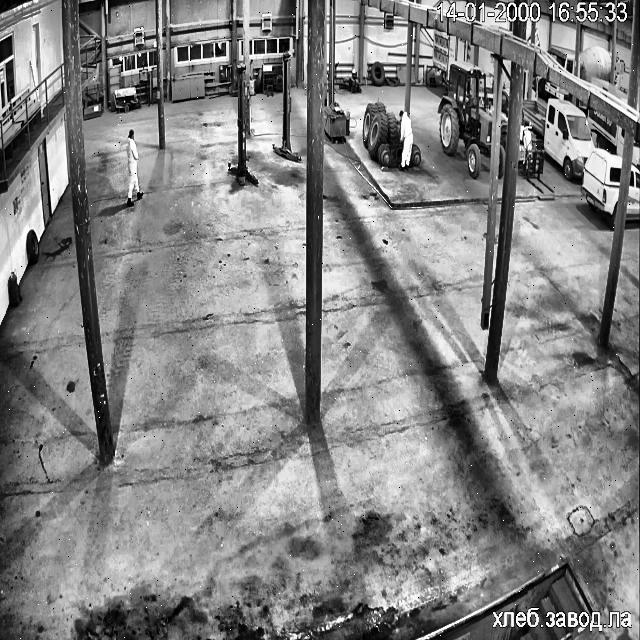car lift: (228, 64, 257, 185), (272, 52, 300, 161)
fire extinguisher: (8, 272, 21, 306)
mechanic: (128, 130, 143, 205), (400, 110, 412, 170)
tractor: (438, 61, 492, 178), (362, 102, 402, 166), (409, 143, 420, 164), (498, 143, 504, 177)
truck: (524, 99, 593, 179), (581, 148, 620, 228), (588, 108, 624, 156), (578, 46, 610, 83), (523, 98, 546, 138), (592, 78, 627, 103), (626, 166, 640, 219), (548, 46, 574, 73), (536, 77, 567, 98), (615, 57, 624, 84), (632, 142, 640, 164)
